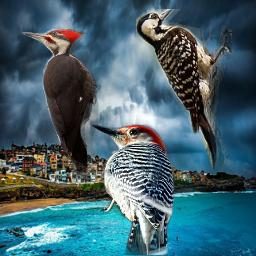Woodpecker: (136, 9, 232, 170), (86, 117, 179, 255), (21, 29, 101, 180)
